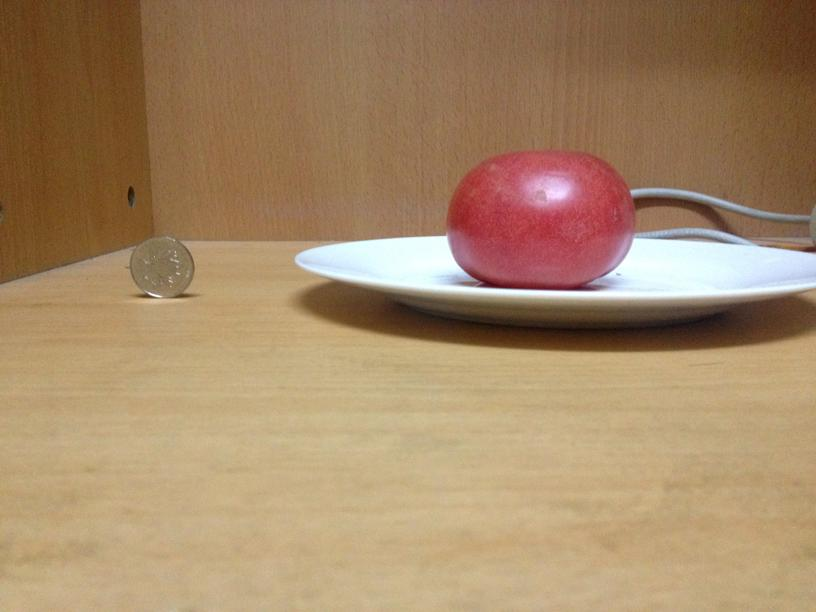coin: (131, 235, 197, 299)
tomato: (444, 150, 637, 287)
